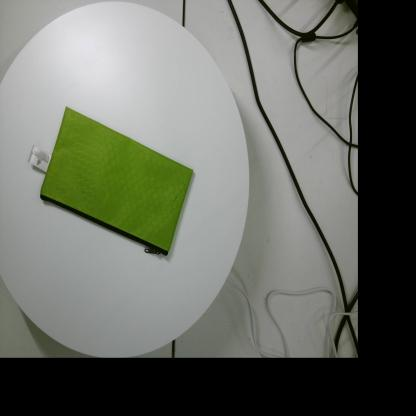Stationery: (28, 106, 193, 256)
